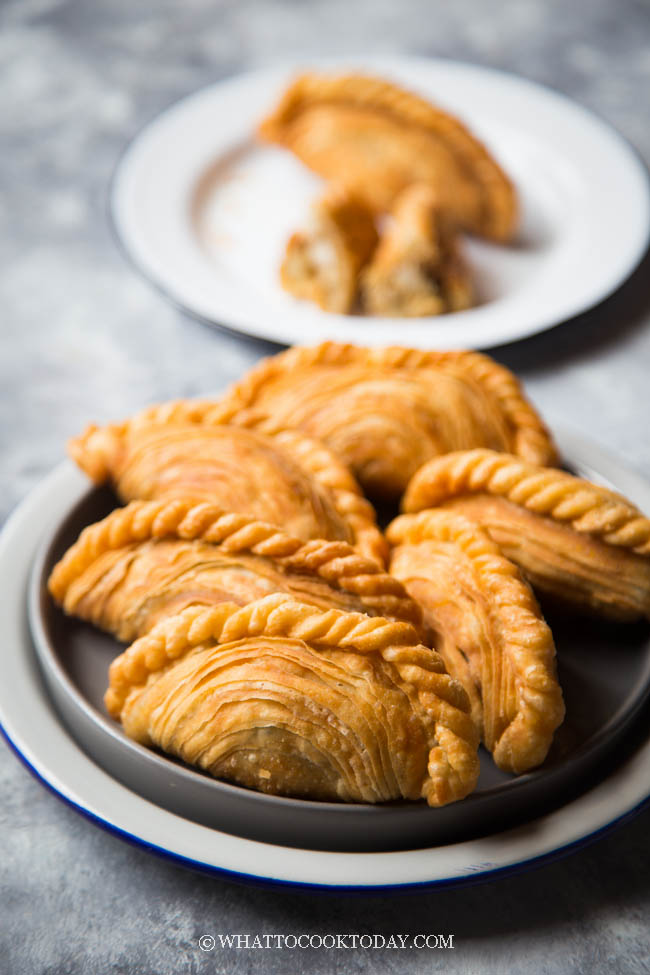Curry Puff: (60, 613, 474, 811), (172, 322, 577, 494), (235, 31, 540, 229), (58, 417, 397, 577), (373, 509, 581, 768), (29, 519, 419, 645), (419, 409, 649, 590)
